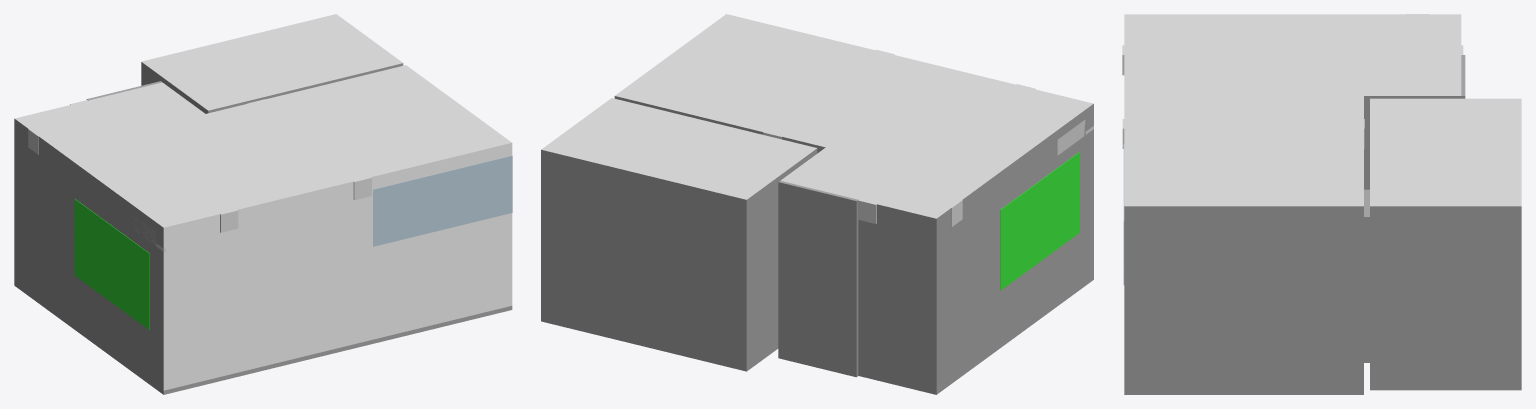
Rendered from chambre.glb.
3 renders of one model, left to right at view 1: azimuth 30°, elevation 25°; view 2: azimuth 150°, elevation 25°; view 3: azimuth 270°, elevation 25°, orthographic. The views are drawn at different scales.
Parts seen in each view (by area): view 1: Murs, Fenètre, Projection, Poutres; view 2: Murs, Projection, Poutres, Climatiseur; view 3: Murs, Poutres.
Part boxes in pixels (left/top/right/bottom): Murs: left=14, top=14, right=512, bottom=394; Fenètre: left=373, top=155, right=512, bottom=246; Projection: left=74, top=199, right=149, bottom=330; Poutres: left=28, top=99, right=371, bottom=232; Murs: left=541, top=14, right=1093, bottom=394; Projection: left=1000, top=152, right=1079, bottom=290; Poutres: left=763, top=49, right=1035, bottom=226; Climatiseur: left=1057, top=120, right=1093, bottom=155; Murs: left=1124, top=14, right=1521, bottom=394; Poutres: left=1122, top=14, right=1463, bottom=148.
Bounding box in the file's own units: 6.01 × 2.75 × 5.27.
